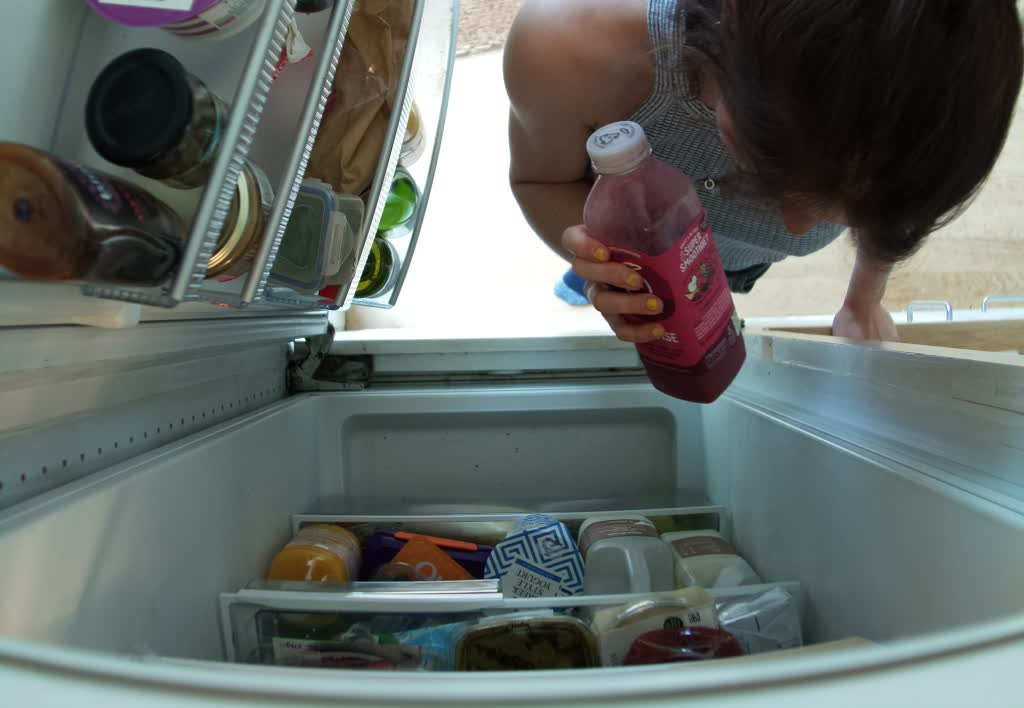juice: (568, 117, 747, 403)
